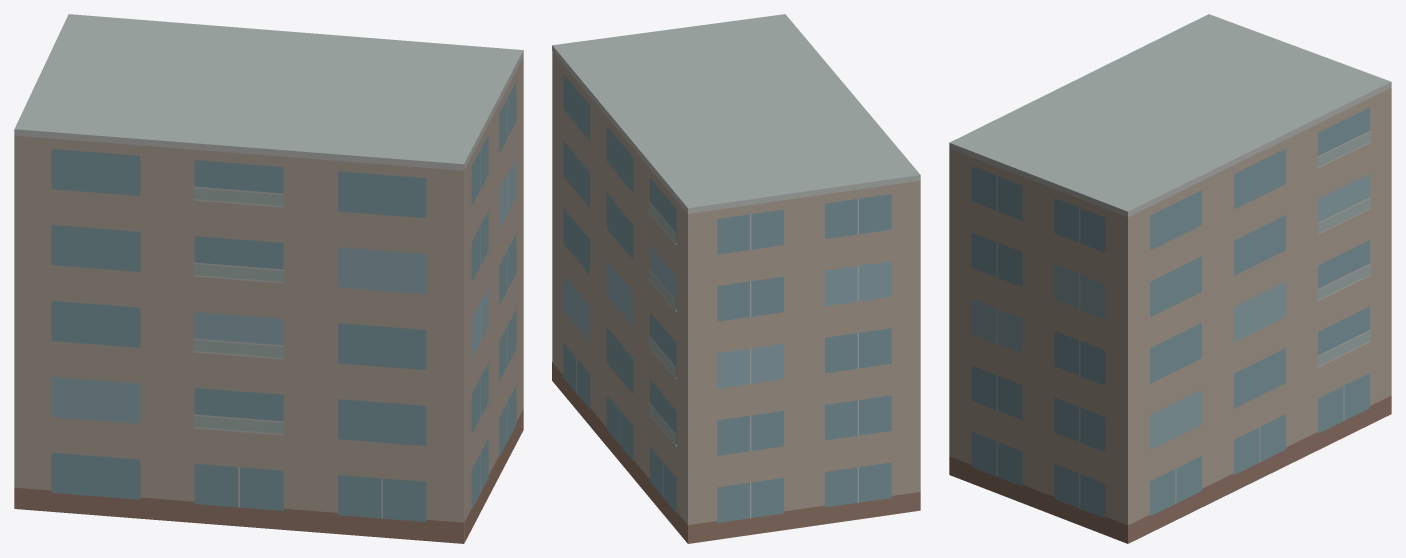
Rendered from survey-upis-32695736.glb.
3 renders of one model, left to right at view 1: azimuth 30°, elevation 25°; view 2: azimuth 150°, elevation 25°; view 3: azimuth 270°, elevation 25°, orthographic. The views are drawn at different scales.
Parts seen in each view (by area): view 1: survey-upis-32695736.tmp; view 2: survey-upis-32695736.tmp; view 3: survey-upis-32695736.tmp.
Boxes of the visible parts, x1,y1,x2,y2 form: survey-upis-32695736.tmp: (14, 14, 523, 543); survey-upis-32695736.tmp: (552, 14, 920, 543); survey-upis-32695736.tmp: (949, 14, 1391, 543).
Bounding box in the file's own units: 18.26 × 14.3 × 17.27.
